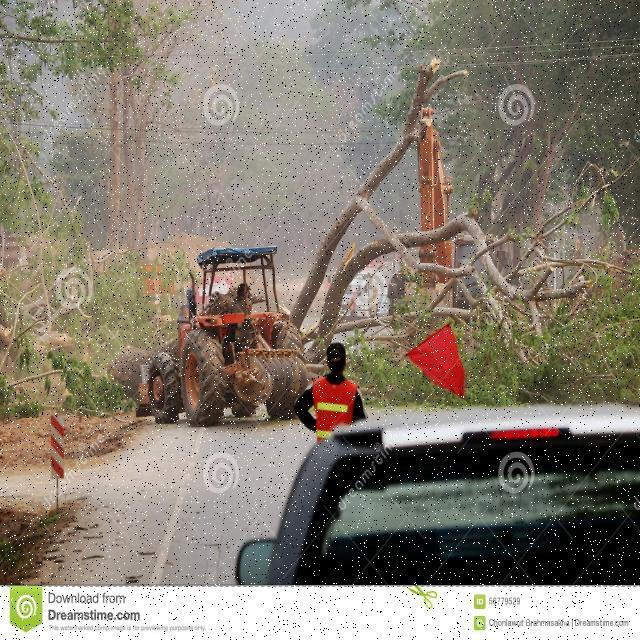fallen_object: (254, 114, 598, 358)
